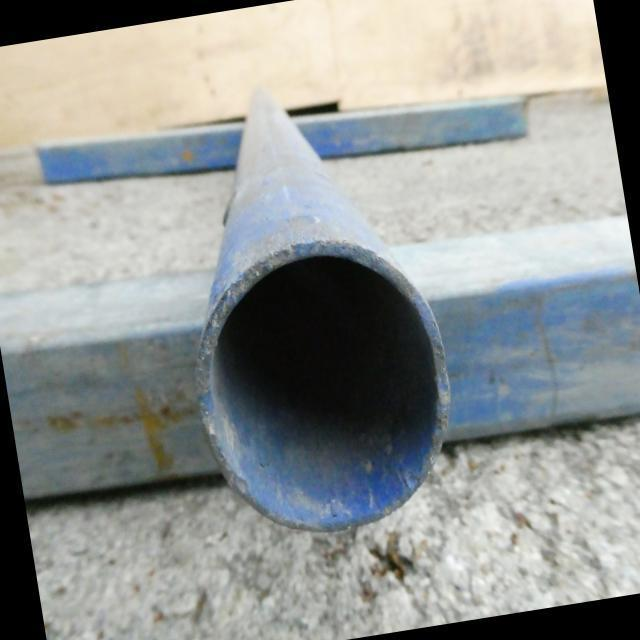pipe: (198, 244, 449, 535)
